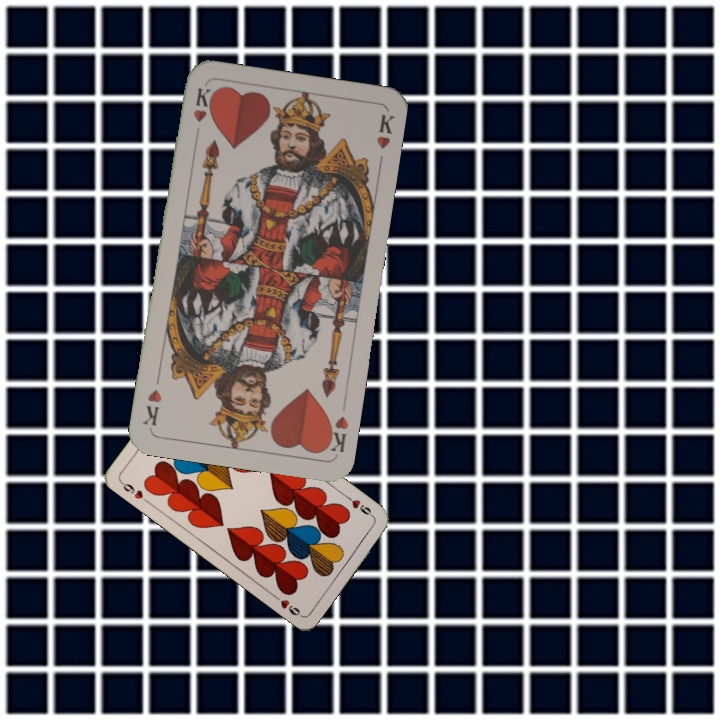H9: (117, 477, 152, 506), (341, 491, 376, 520)
HK: (320, 412, 351, 455), (189, 83, 213, 125)
